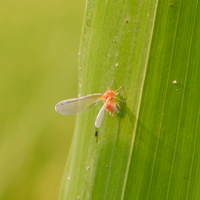insect: (55, 85, 123, 127)
